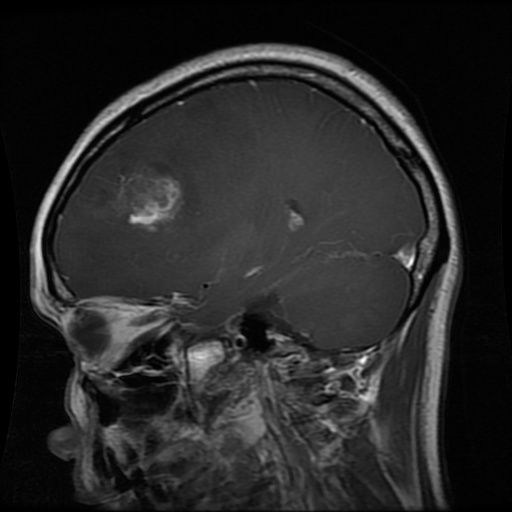glioma: (113, 166, 186, 233)
